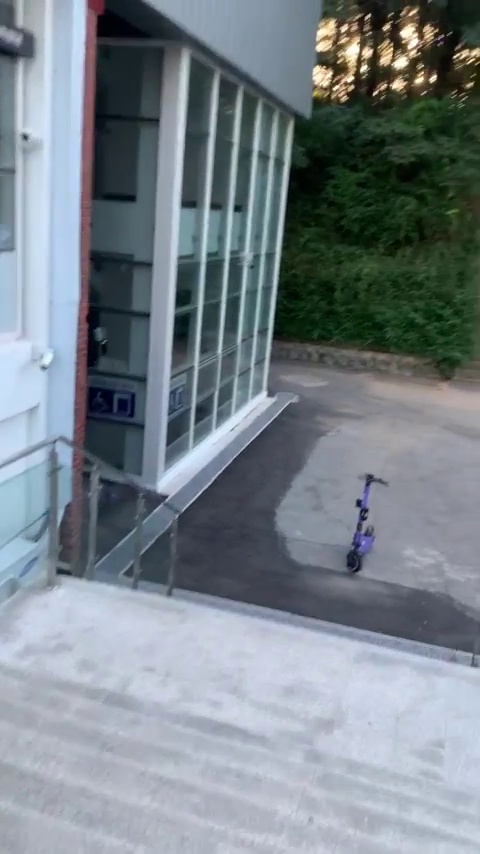beam: (335, 467, 395, 588)
